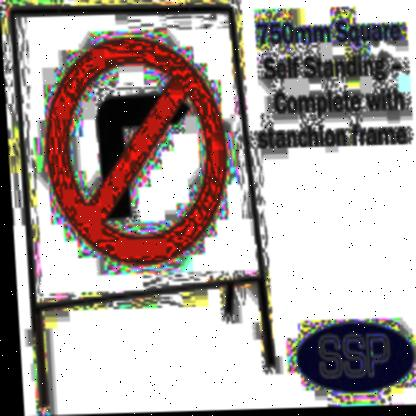No right turn: (36, 31, 233, 272)
